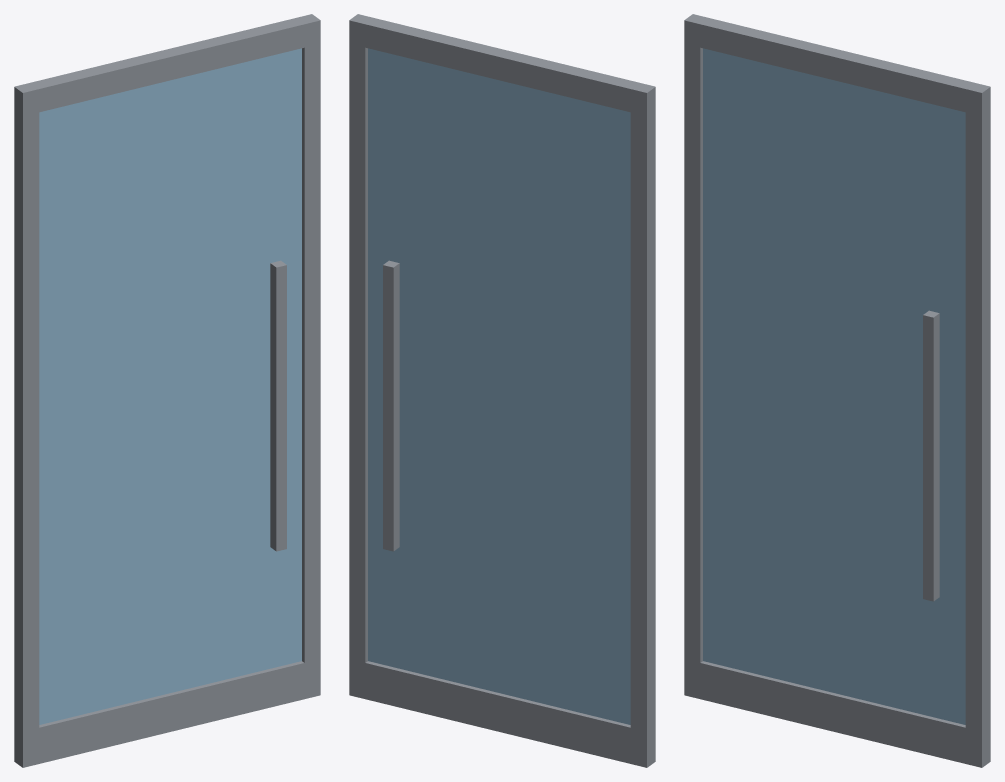
File: SM_Door_glass_100x215.fbx
3 renders of one model, left to right at view 1: azimuth 30°, elevation 25°; view 2: azimuth 150°, elevation 25°; view 3: azimuth 330°, elevation 25°, orthographic.
Visible parts, largest first — view 1: SM_Door_glass_100x215; view 2: SM_Door_glass_100x215; view 3: SM_Door_glass_100x215.
Part boxes in pixels (x1,y1,x2,y2): SM_Door_glass_100x215: (14, 14, 320, 767); SM_Door_glass_100x215: (349, 14, 655, 767); SM_Door_glass_100x215: (684, 14, 990, 767).
Bounding box in the file's own units: 0.988 × 2.14 × 0.135.
